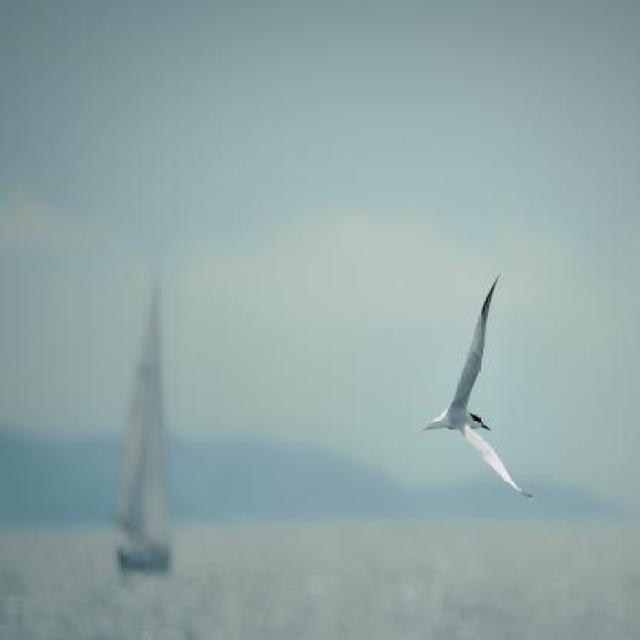bird: (417, 272, 534, 500)
